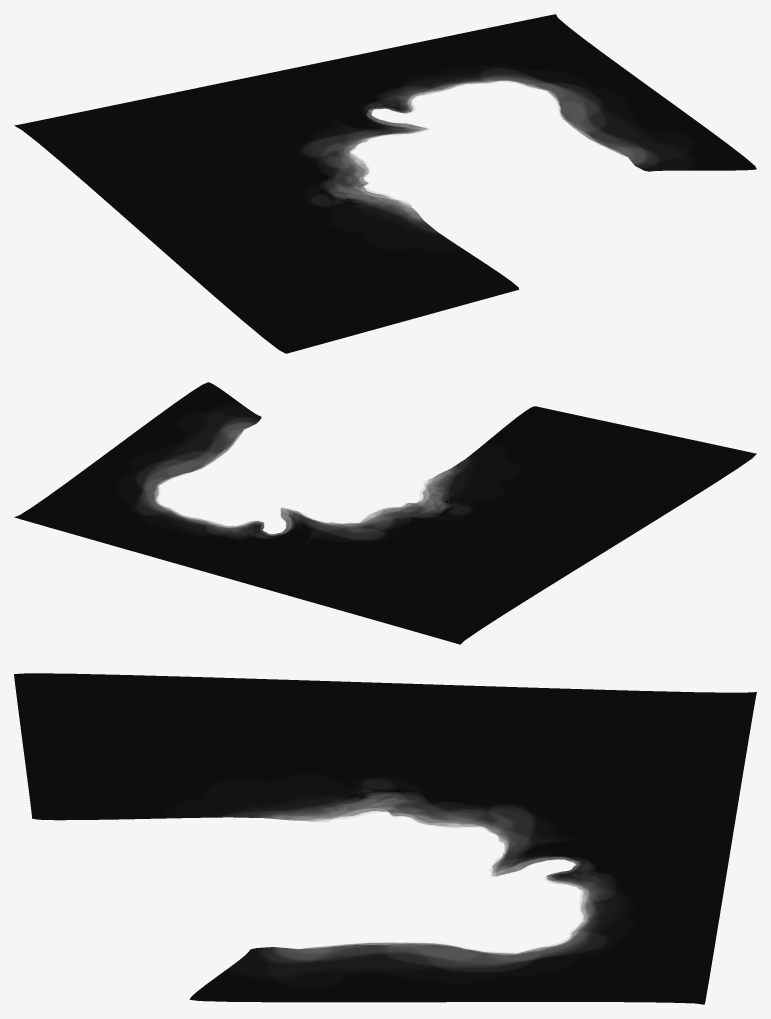
File: level1.obj
3 renders of one model, top to bottom at view 1: azimuth 30°, elevation 25°; view 2: azimuth 150°, elevation 25°; view 3: azimuth 270°, elevation 25°, orthographic. The views are drawn at different scales.
Parts seen in each view (by area): view 1: BézierCurve; view 2: BézierCurve; view 3: BézierCurve.
Part boxes in pixels (x1,y1,x2,y2): BézierCurve: (14,14,756,353); BézierCurve: (14,382,756,644); BézierCurve: (14,673,756,1004).
Bounding box in the file's own units: 23.51 × 0.00561 × 22.27.
Materials: 1 (1 with a texture image).
